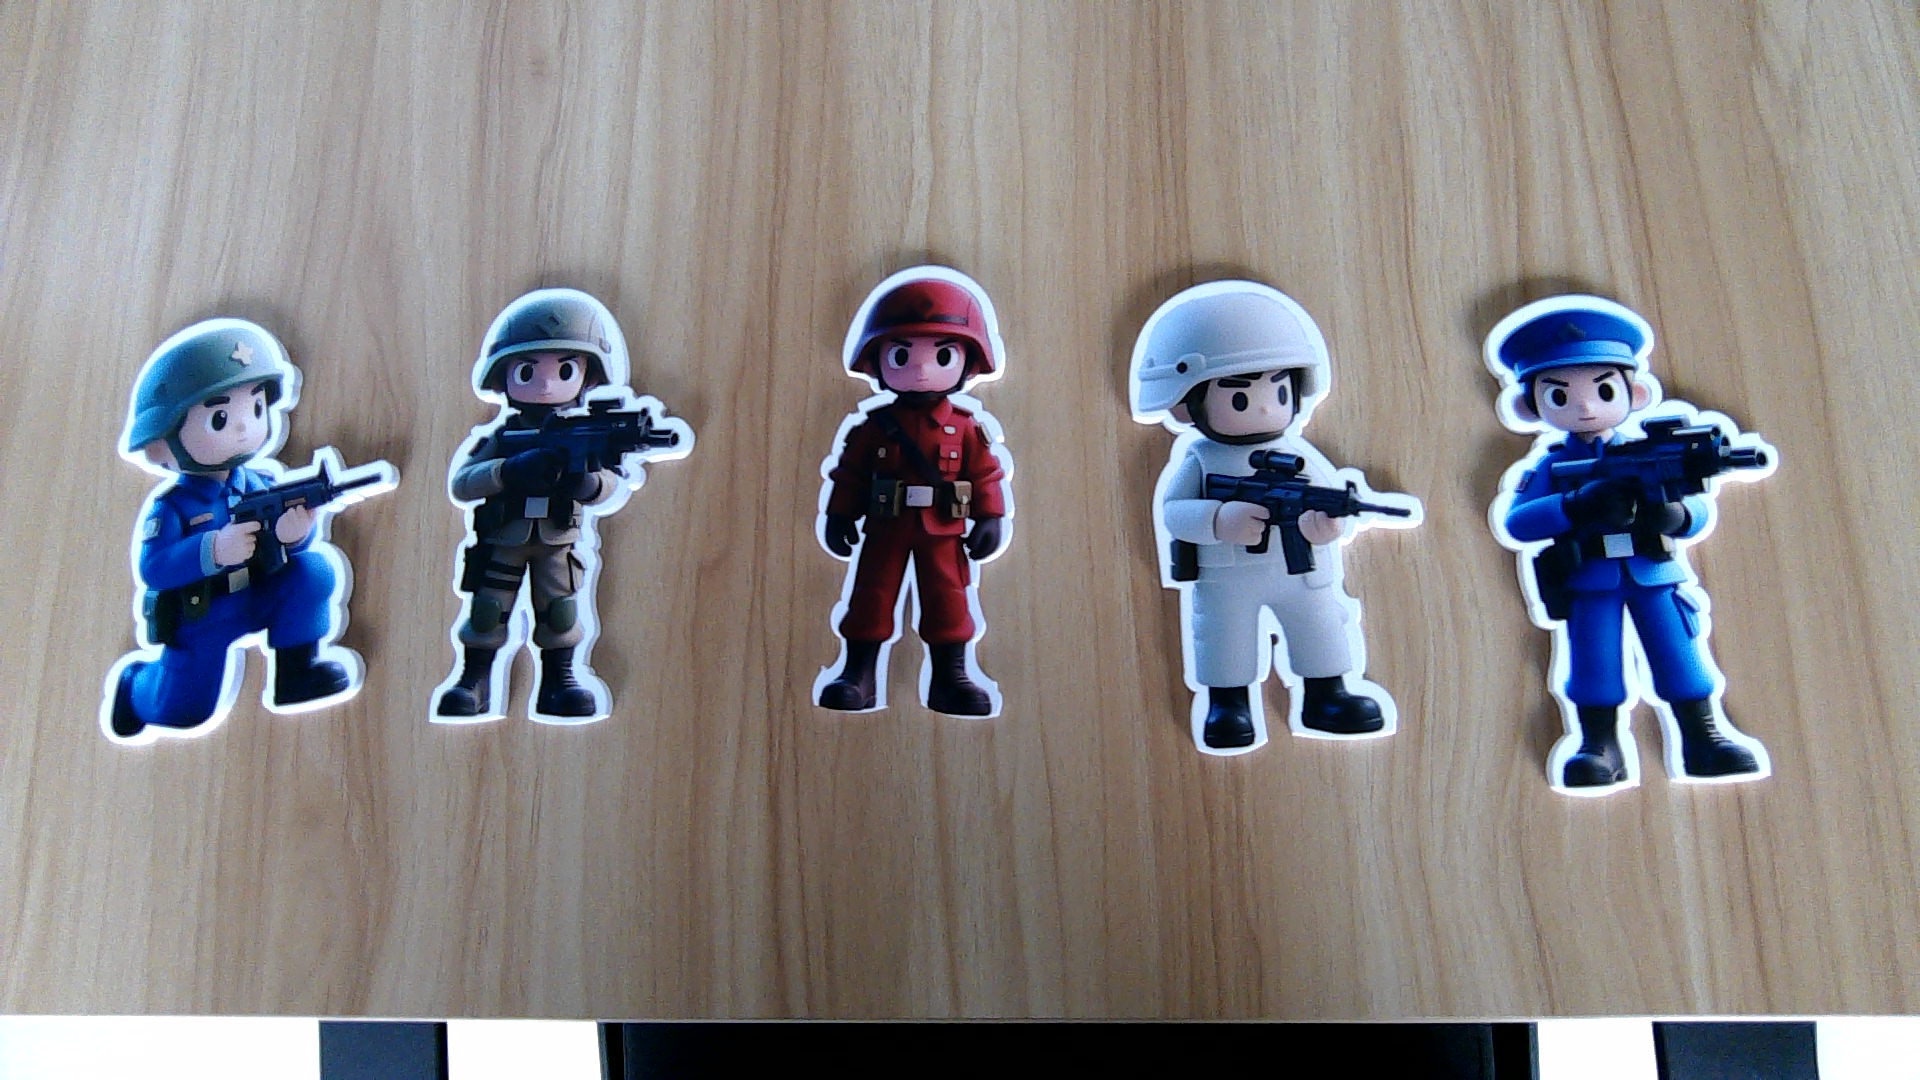人质: (1139, 444, 1422, 760)
友军: (429, 407, 692, 727)
敌人1: (806, 396, 1015, 723)
敌人2: (1481, 429, 1803, 798), (98, 483, 377, 741)
